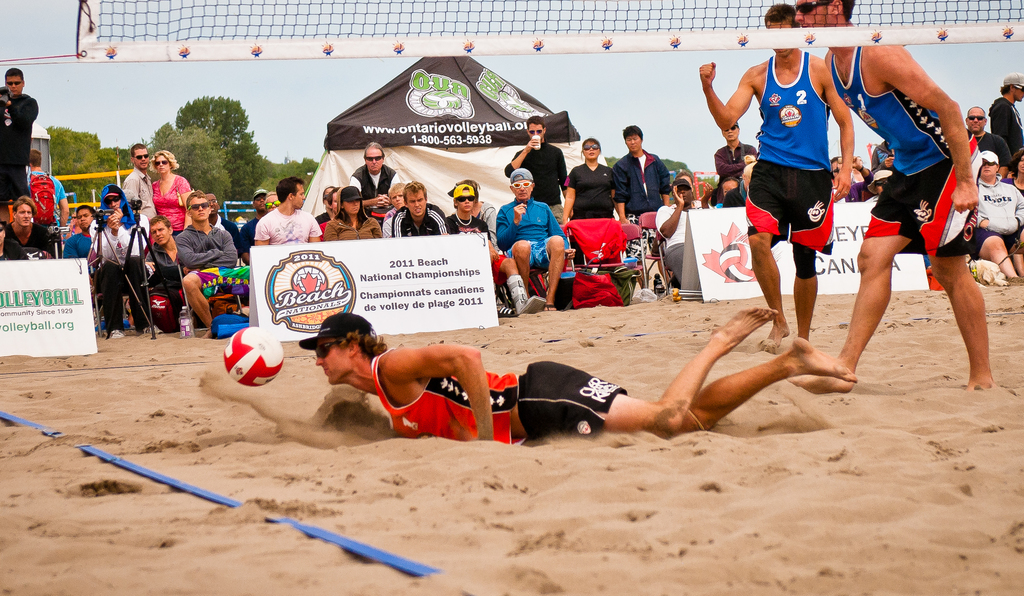Person: (0, 0, 1023, 445)
